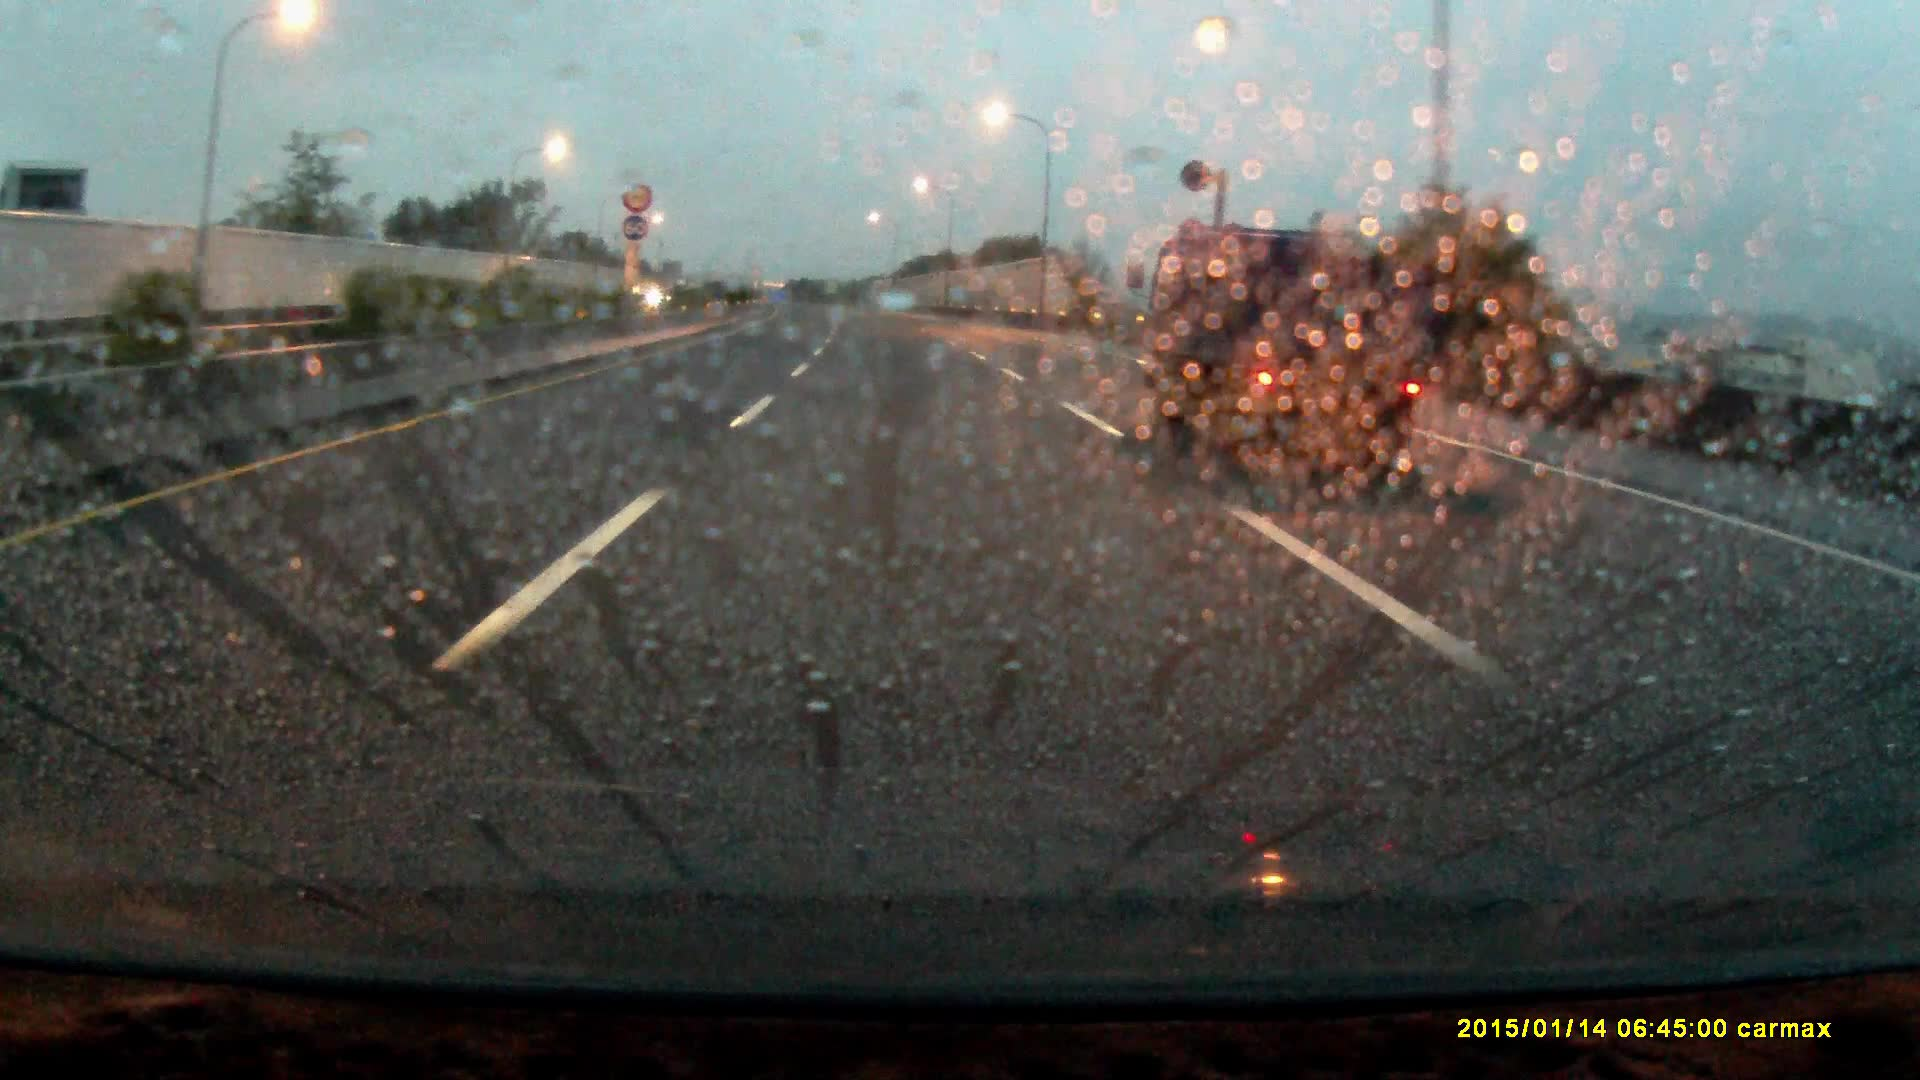vehicle: (1176, 210, 1458, 500)
